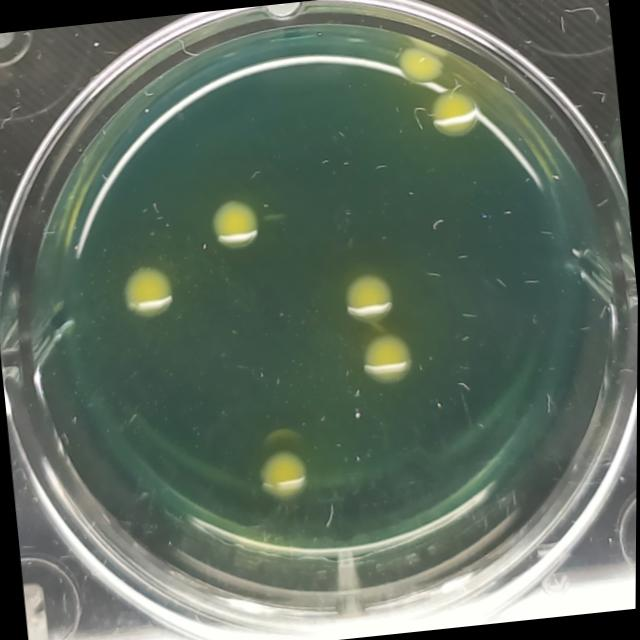vibrio: (348, 322, 417, 398), (202, 184, 269, 256), (250, 438, 315, 510), (114, 255, 181, 323), (333, 264, 403, 326), (424, 80, 484, 150), (380, 30, 450, 90)
